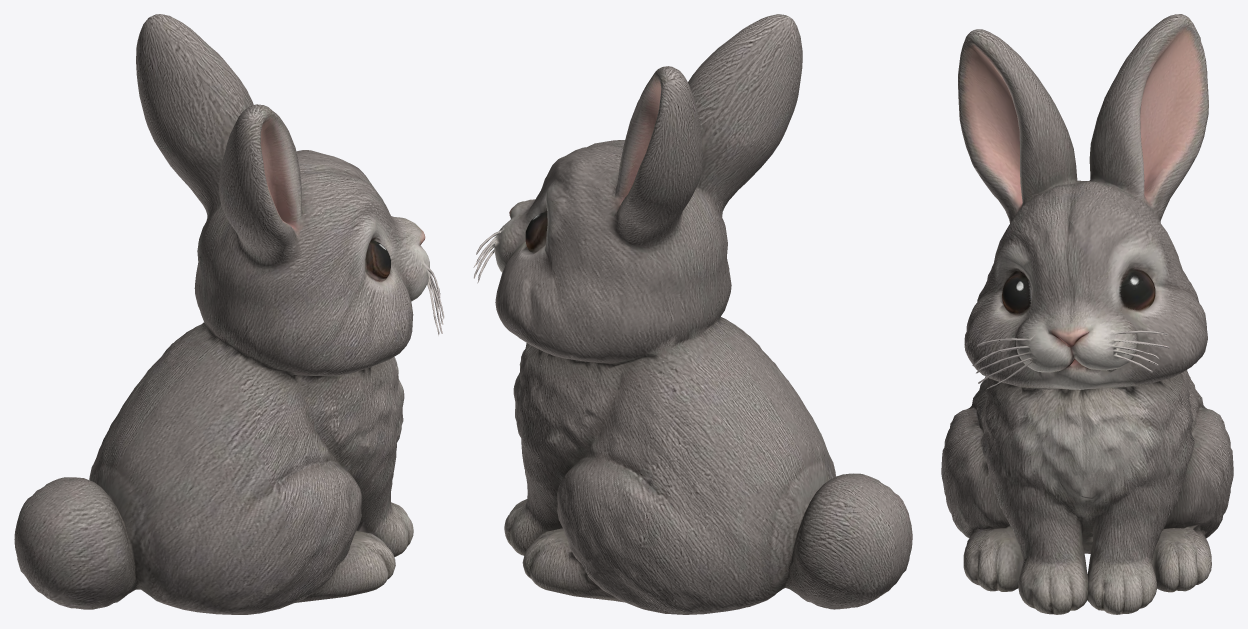
The model's file is rabbit.glb.
3 renders of one model, left to right at view 1: azimuth 30°, elevation 25°; view 2: azimuth 150°, elevation 25°; view 3: azimuth 270°, elevation 25°, orthographic. The views are drawn at different scales.
Visible parts, largest first — view 1: tripo_node_0f3404e7-4bd9-49f4-9477-705dceb67b48; view 2: tripo_node_0f3404e7-4bd9-49f4-9477-705dceb67b48; view 3: tripo_node_0f3404e7-4bd9-49f4-9477-705dceb67b48.
Part boxes in pixels (x1,y1,x2,y2): tripo_node_0f3404e7-4bd9-49f4-9477-705dceb67b48: [14, 14, 444, 614]; tripo_node_0f3404e7-4bd9-49f4-9477-705dceb67b48: [473, 14, 912, 614]; tripo_node_0f3404e7-4bd9-49f4-9477-705dceb67b48: [941, 14, 1233, 614].
Bounding box in the file's own units: 0.7816 × 0.9999 × 0.516.
1 material, 1 textured.
